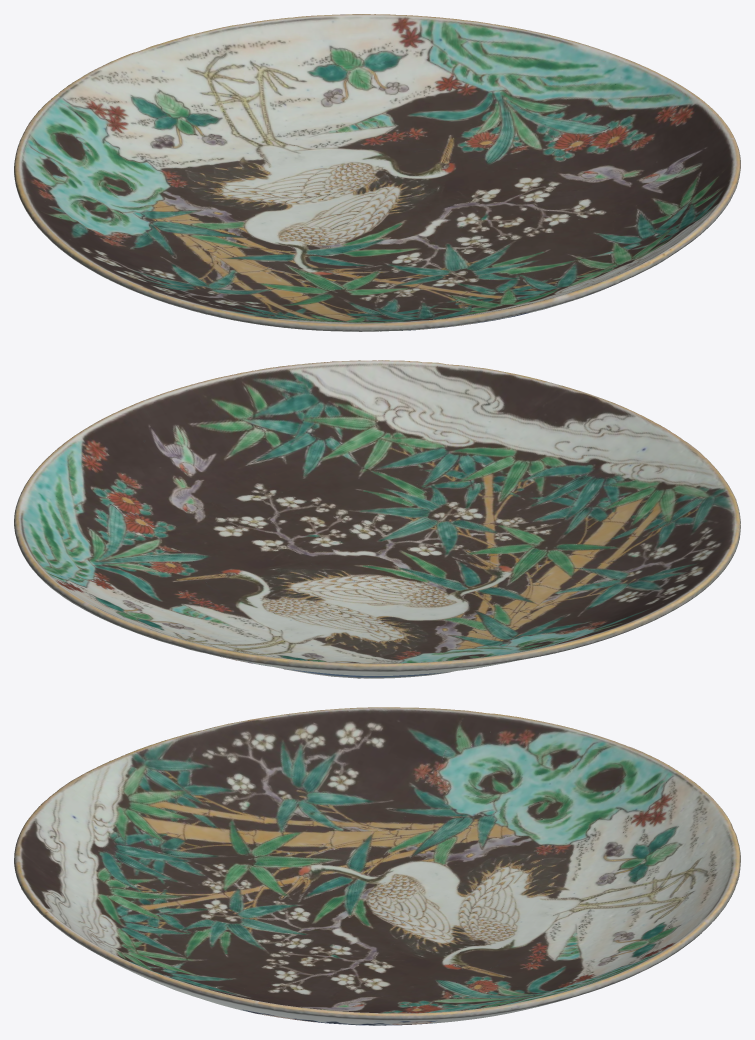
The model's file is plato.glb.
3 renders of one model, top to bottom at view 1: azimuth 30°, elevation 25°; view 2: azimuth 150°, elevation 25°; view 3: azimuth 270°, elevation 25°, orthographic.
Bounding box in the file's own units: 0.4747 × 0.0603 × 0.4725.
Materials: 1 (1 with a texture image).
